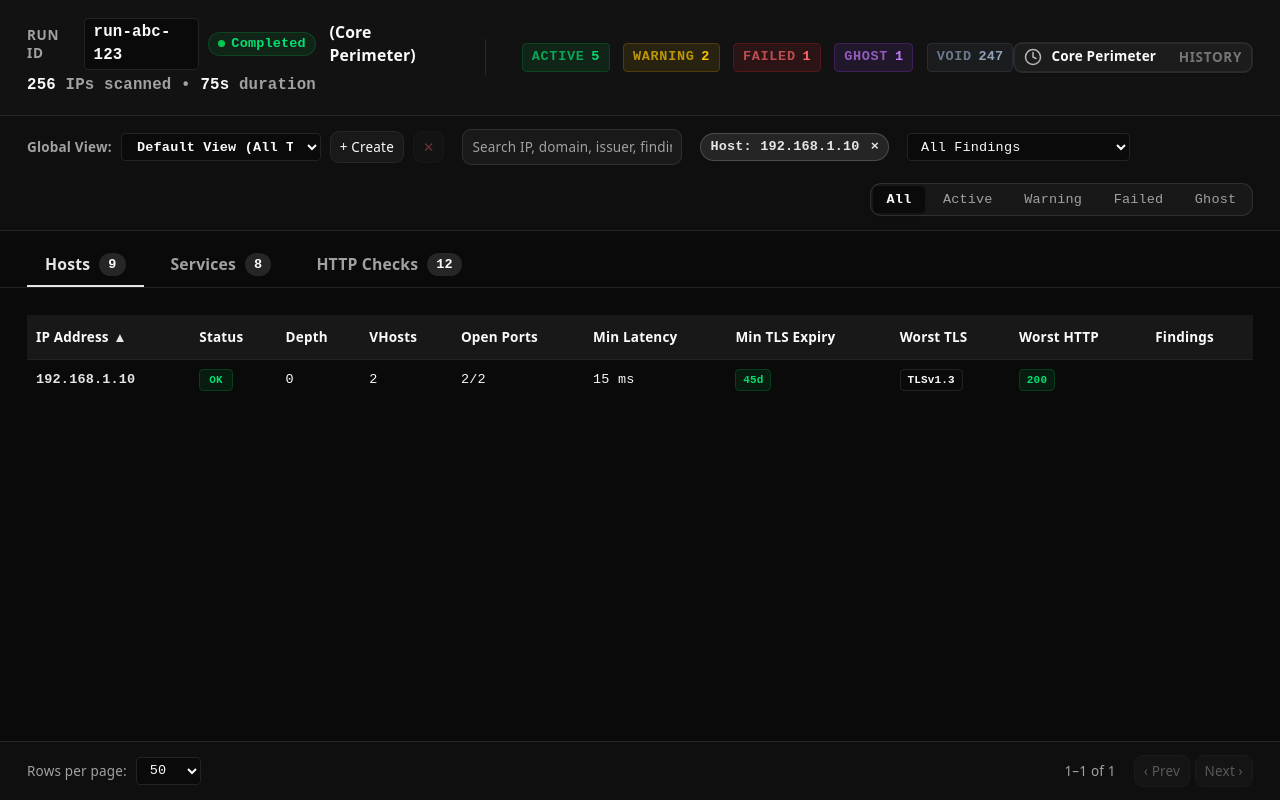
Test: HostTablePage 3-Tab Flat Relational Explorer › renders removable IP filter chip when ip query param is set and clears it on click
This screenshot has width=1280, height=800.
Expected: the element with test id "ip-filter-chip" shows "192.168.1.10", 760,139 -> 860,154
// Click remove button on chip
Click the button named "clear ip filter" at [875, 147], box 871,138 -> 879,156
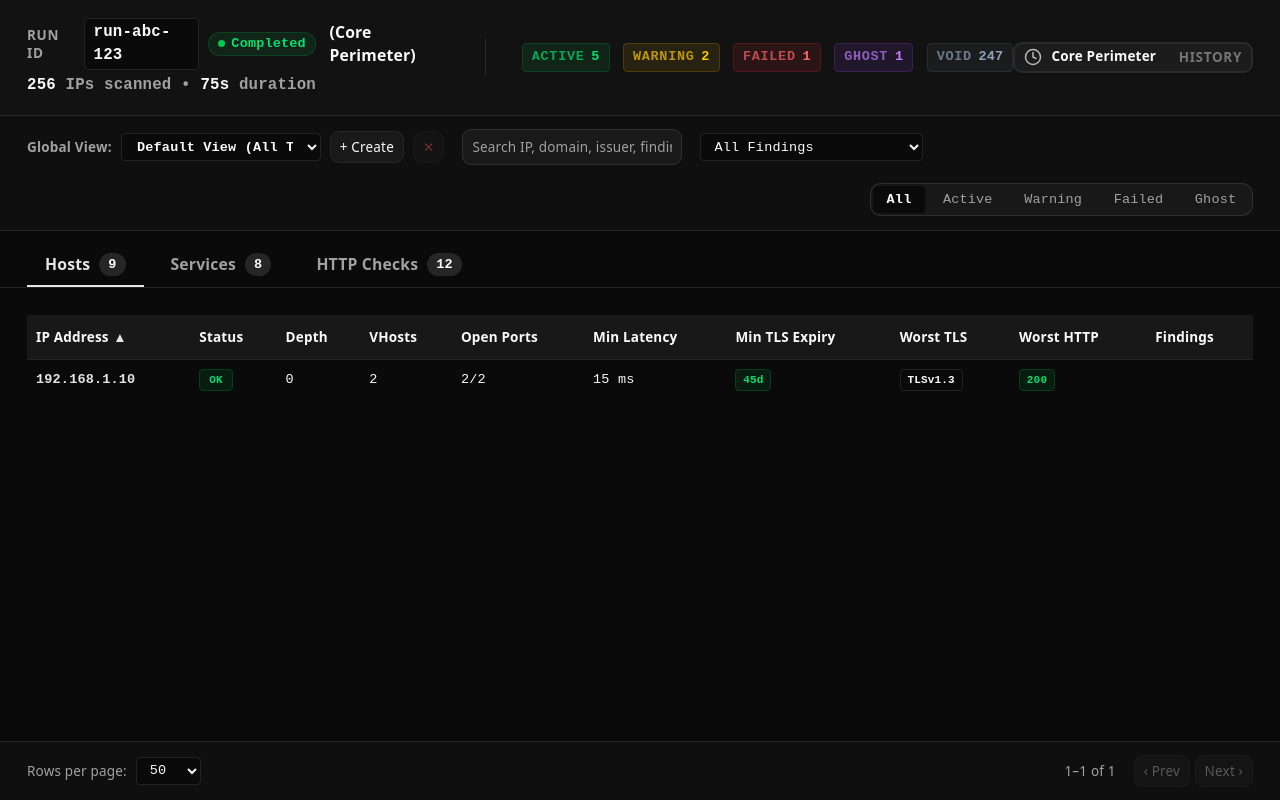
Expected: the element with test id "ip-filter-chip" is gone
